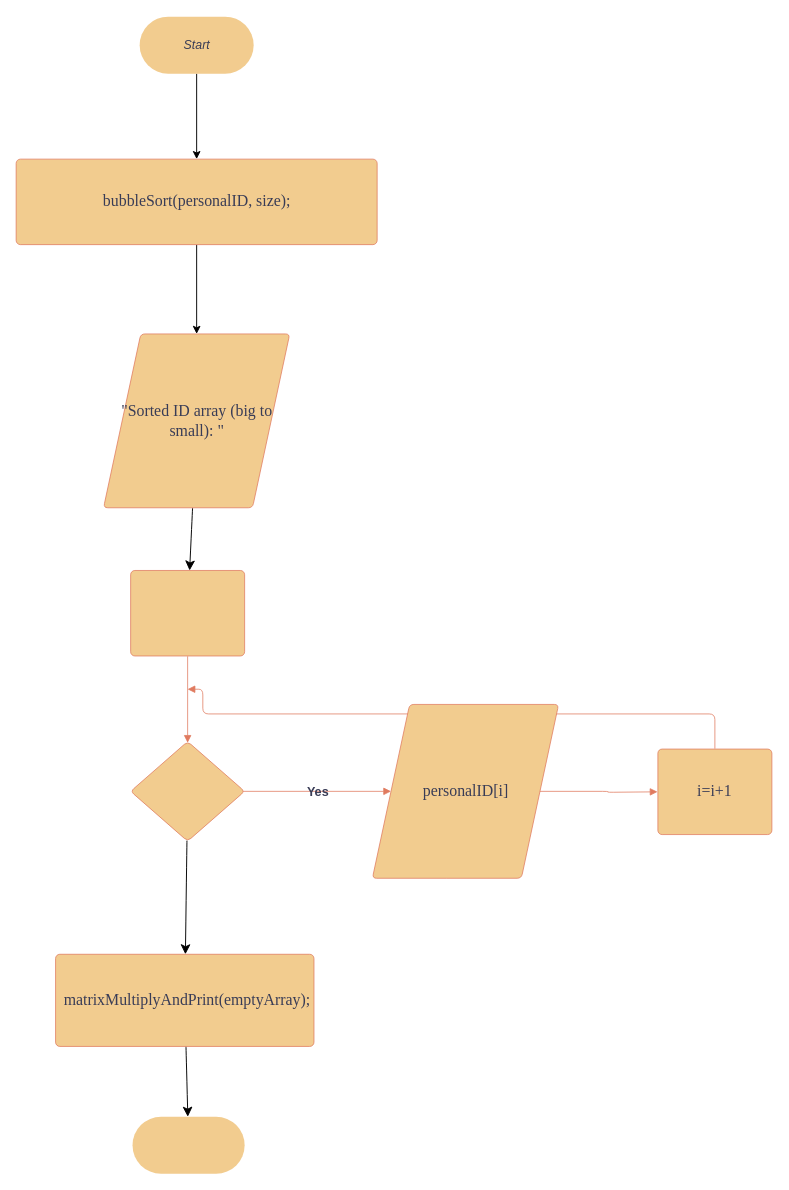
Some shapes in this 789 by 1190 pixel diagram are drawn without their labels. The centre of each missing label's shape, as x and y in pixels:
end: (x=188, y=1145)
i<size: (x=187, y=791)
i=0: (x=187, y=613)
